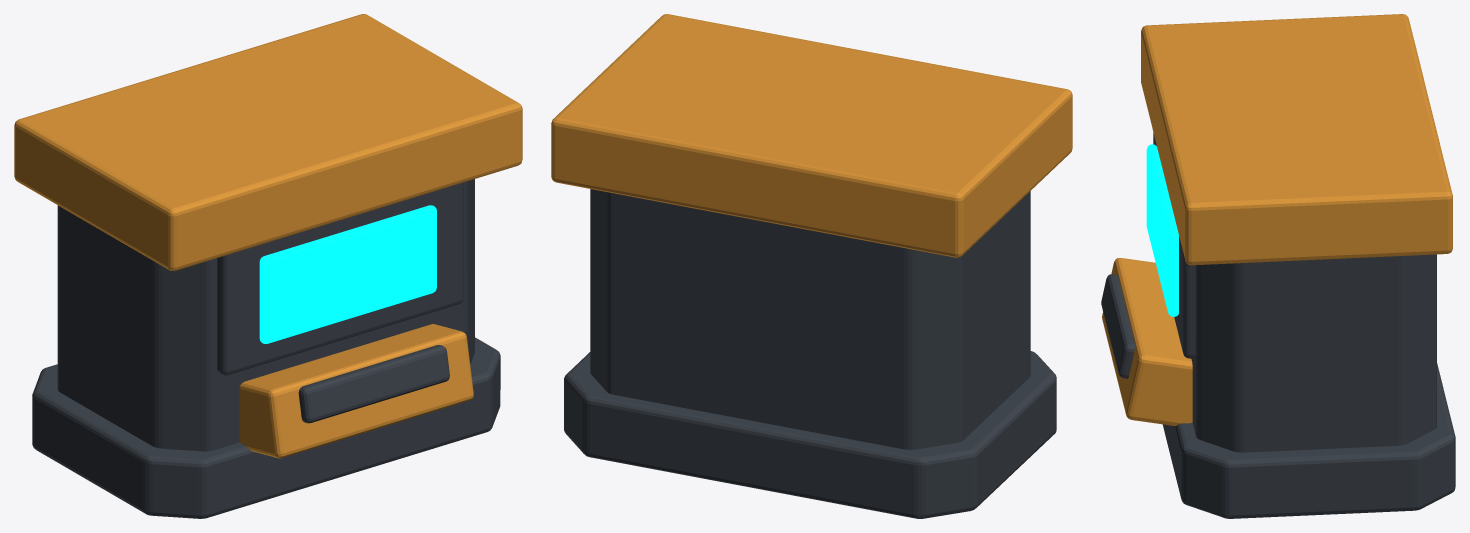
File: SM_RobotCenter_ShopTerminal.fbx
3 views of the same model, side by side, from view 1: azimuth 30°, elevation 25°; view 2: azimuth 150°, elevation 25°; view 3: azimuth 270°, elevation 25° (orthographic). The views are drawn at different scales.
Visible parts, largest first — view 1: SM_RobotCenter_ShopTerminal.001; view 2: SM_RobotCenter_ShopTerminal.001; view 3: SM_RobotCenter_ShopTerminal.001.
Boxes of the visible parts, x1,y1,x2,y2 form: SM_RobotCenter_ShopTerminal.001: (14,14,522,518); SM_RobotCenter_ShopTerminal.001: (551,14,1072,518); SM_RobotCenter_ShopTerminal.001: (1101,14,1455,518).
Bounding box in the file's own units: 208 × 268 × 205.
